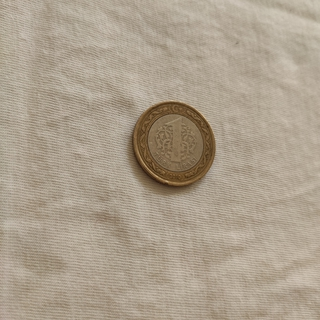1TL: (129, 99, 217, 189)
